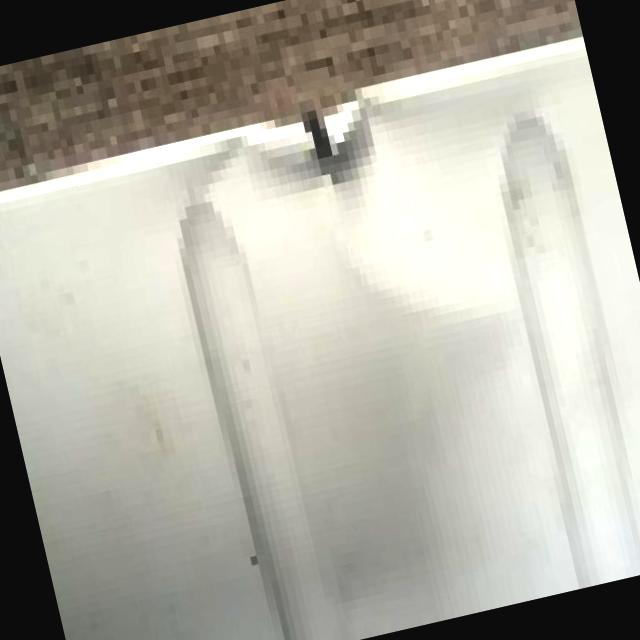crack: (282, 84, 365, 188)
